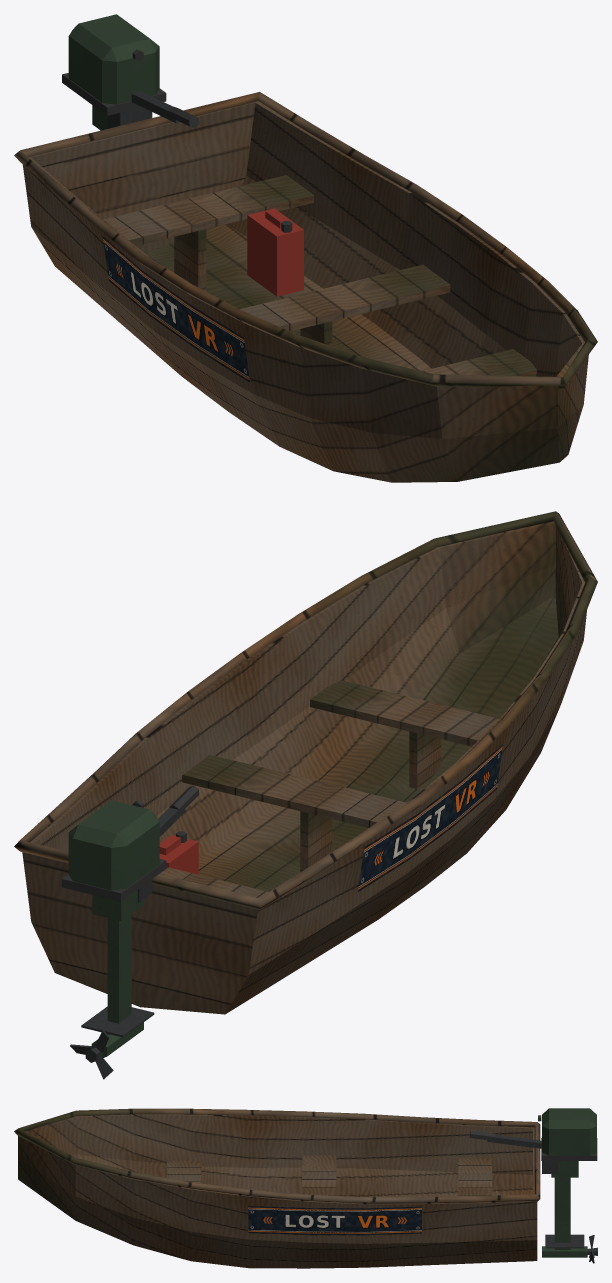
File: Boat_LostVR.fbx
3 renders of one model, top to bottom at view 1: azimuth 30°, elevation 25°; view 2: azimuth 150°, elevation 25°; view 3: azimuth 270°, elevation 25°, orthographic. The views are drawn at different scales.
Parts seen in each view (by area): view 1: Hull, Gunwale, Object.003, seat.001, seat.002, Banner_L, fuel, seat.003, seat, Object.005, motor handle part; view 2: Hull, Gunwale, seat.002, Object.003, seat.003, Banner_L, Object.001, seat suppourt, seat suppourt.001, Object.006, Object.005, fuel (+2 smaller); view 3: Hull, Gunwale, Banner_R, Object.003, seat.002, seat.001, Object.001, seat.003, Object.006, Object.002, motor handle part, Object.005 (+1 smaller).
Boxes of the visible parts, x1,y1,x2,y2 form: Hull: [22, 101, 588, 482]; Gunwale: [14, 92, 597, 389]; Object.003: [68, 14, 159, 104]; seat.001: [104, 175, 313, 245]; seat.002: [240, 264, 450, 331]; Banner_L: [102, 236, 249, 382]; fuel: [247, 208, 303, 296]; seat.003: [422, 349, 537, 376]; seat: [174, 229, 206, 291]; Object.005: [62, 73, 166, 115]; motor handle part: [131, 91, 179, 122]; Hull: [22, 521, 586, 1014]; Gunwale: [14, 511, 597, 909]; seat.002: [182, 754, 406, 827]; Object.003: [68, 800, 159, 890]; seat.003: [310, 680, 498, 746]; Banner_L: [358, 744, 502, 891]; Object.001: [107, 914, 131, 1023]; seat suppourt: [300, 811, 332, 872]; seat suppourt.001: [409, 731, 441, 789]; Object.006: [81, 1006, 154, 1037]; Object.005: [62, 859, 166, 901]; fuel: [159, 835, 198, 874]; Hull: [18, 1114, 537, 1268]; Gunwale: [14, 1108, 540, 1204]; Banner_R: [248, 1206, 421, 1235]; Object.003: [542, 1108, 596, 1155]; seat.002: [302, 1155, 336, 1195]; seat.001: [458, 1158, 492, 1196]; Object.001: [554, 1177, 570, 1249]; seat.003: [167, 1161, 201, 1183]; Object.006: [545, 1234, 584, 1248]; Object.002: [542, 1246, 587, 1257]; motor handle part: [487, 1135, 541, 1148]; Object.005: [541, 1138, 597, 1160].
Size of the model in its own units: 1.8 by 1.47 by 5.11.
Materials: 2 (2 with a texture image).
